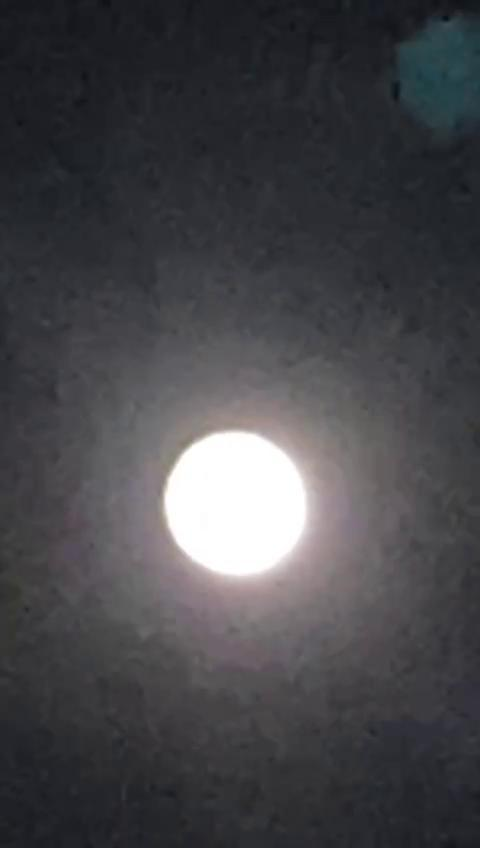moon: (134, 418, 313, 609)
